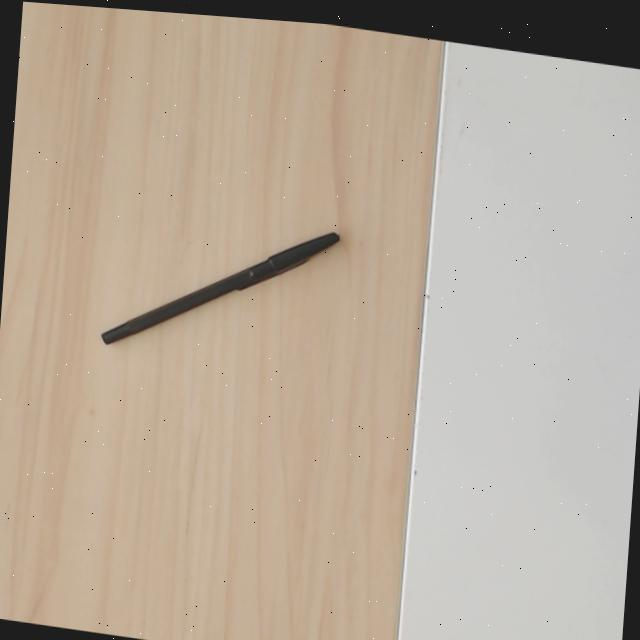Pulpen-Hitam: (95, 227, 344, 348)
